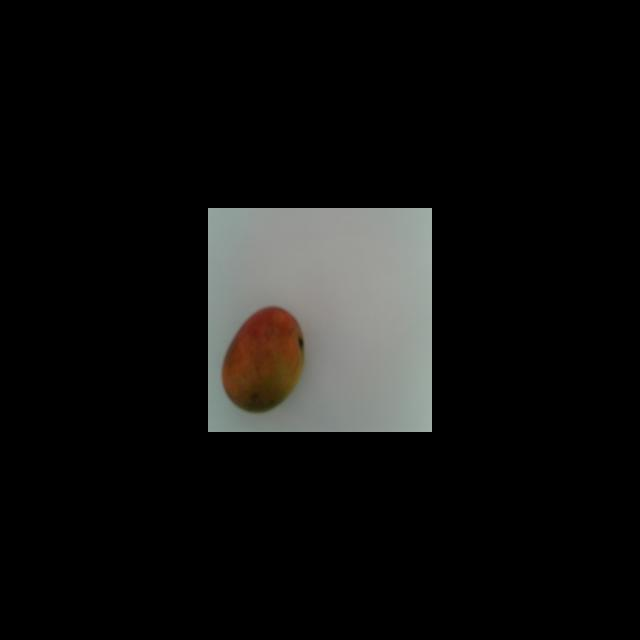Mango: (221, 305, 304, 412)
